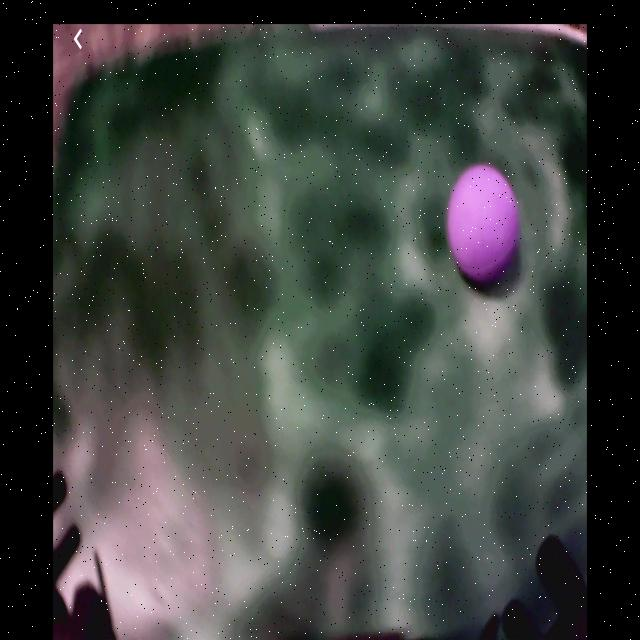ball: (447, 164, 522, 283)
